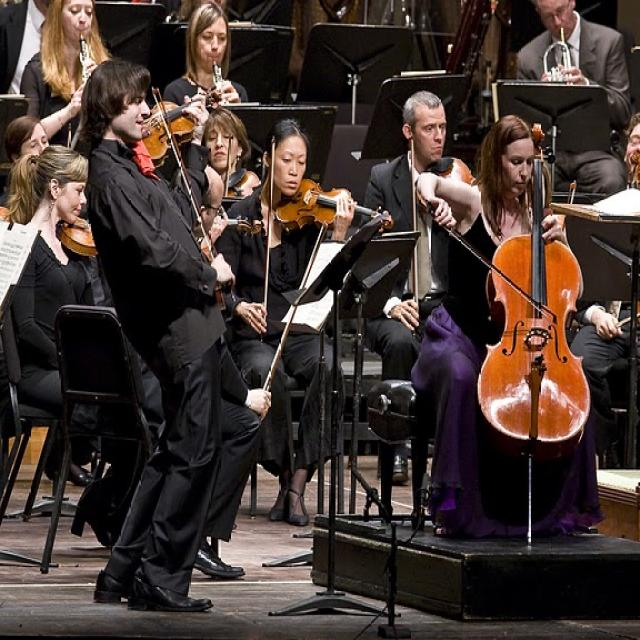cello: (475, 125, 592, 445)
clarinet: (211, 63, 232, 108), (78, 36, 92, 88)
violin: (274, 177, 394, 239), (141, 86, 220, 167), (62, 215, 101, 258), (224, 169, 262, 205)
